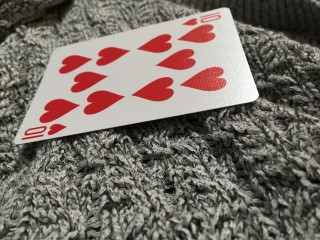TenOfHearts: (13, 8, 259, 144)
